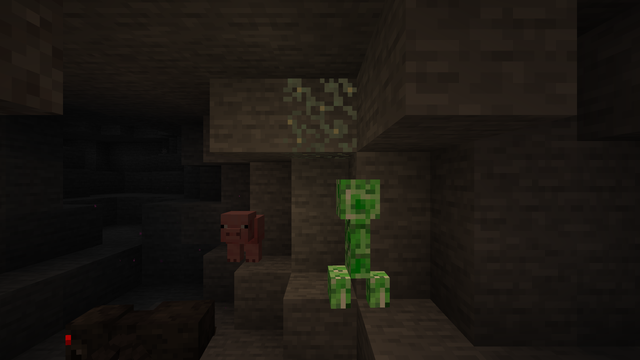araignees: (26, 285, 209, 358)
cochons: (220, 211, 272, 262)
creepers: (333, 173, 383, 309)
